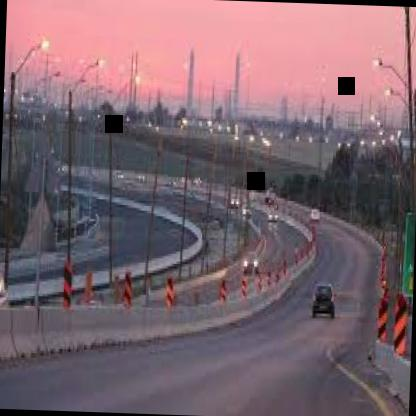car: (310, 270, 347, 332), (243, 247, 265, 278)
